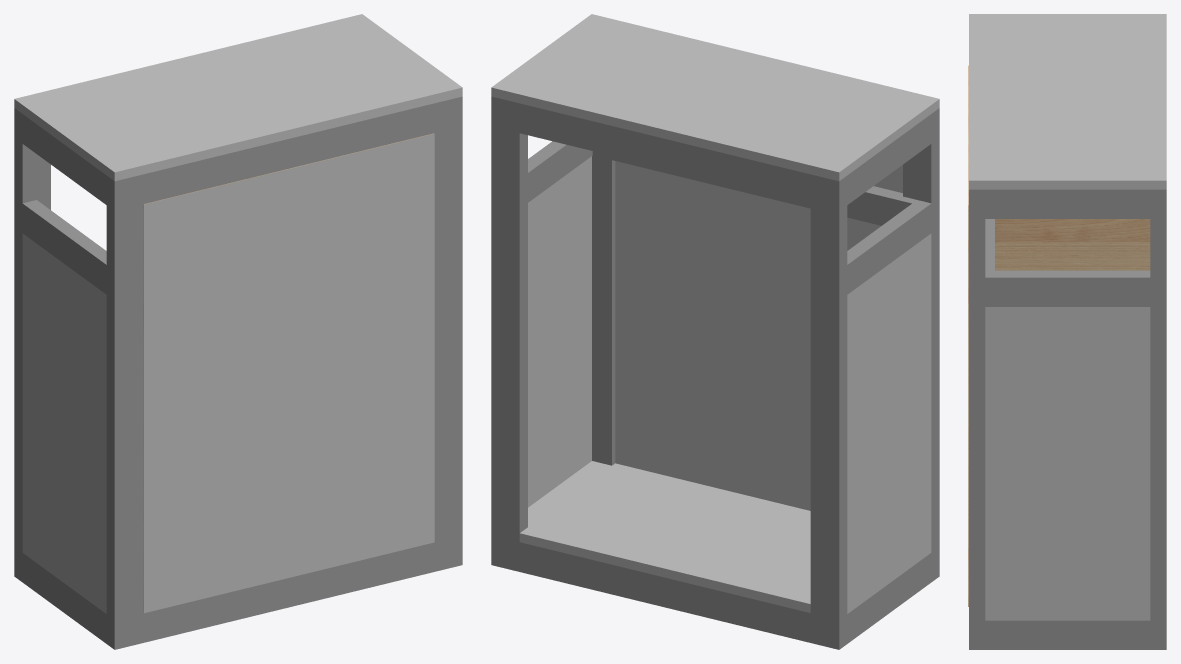
3 renders of one model, left to right at view 1: azimuth 30°, elevation 25°; view 2: azimuth 150°, elevation 25°; view 3: azimuth 270°, elevation 25°, orthographic.
Visible parts, largest first — view 1: Root Node, 188466; view 2: Root Node, 188466; view 3: Root Node, 188466.
Part boxes in pixels (x1,y1,x2,y2): Root Node: (14, 14, 462, 613); 188466: (14, 96, 462, 649); Root Node: (491, 14, 939, 613); 188466: (491, 96, 939, 649); Root Node: (968, 14, 1166, 620); 188466: (969, 189, 1166, 649).
Bounding box in the file's own units: 0.61 × 0.8 × 0.306.
135 materials, 22 textured.
